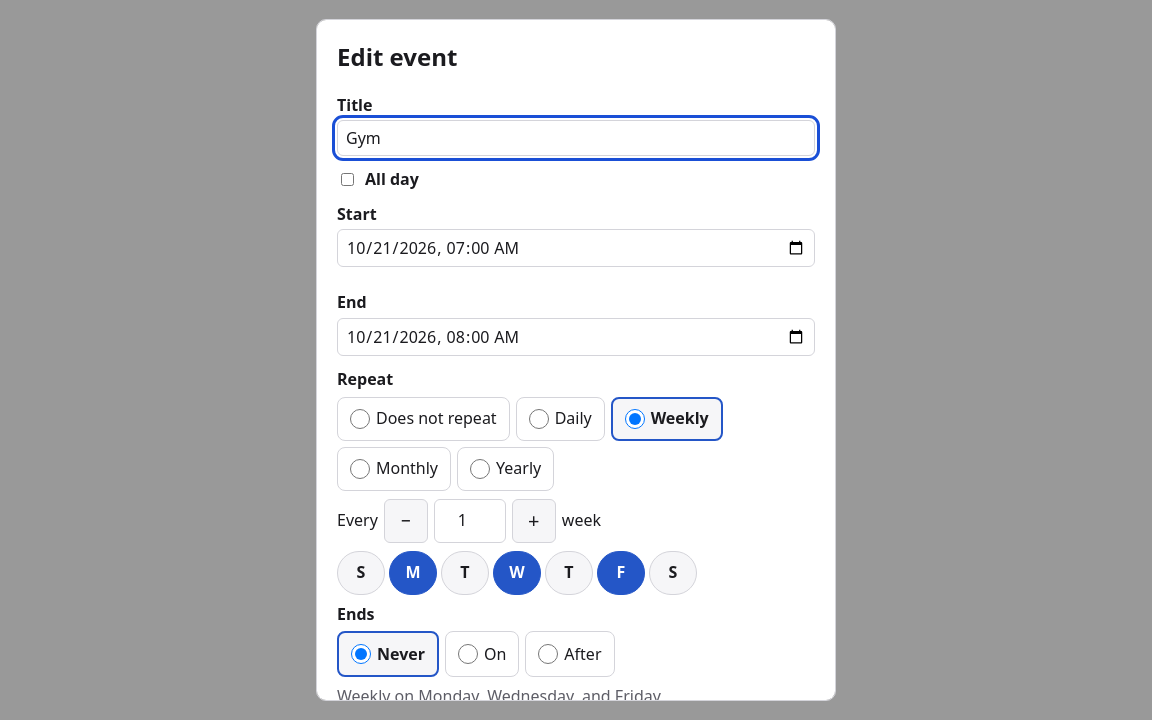
Test: EventFormDialog (series edits, US3) › shows a scope error from the server on the form
Replace the text in the field labelled "Title" with "Swim". click: coordinates (576, 138)
box: top-left (337, 120), bottom-right (815, 156)
(page scrolled)
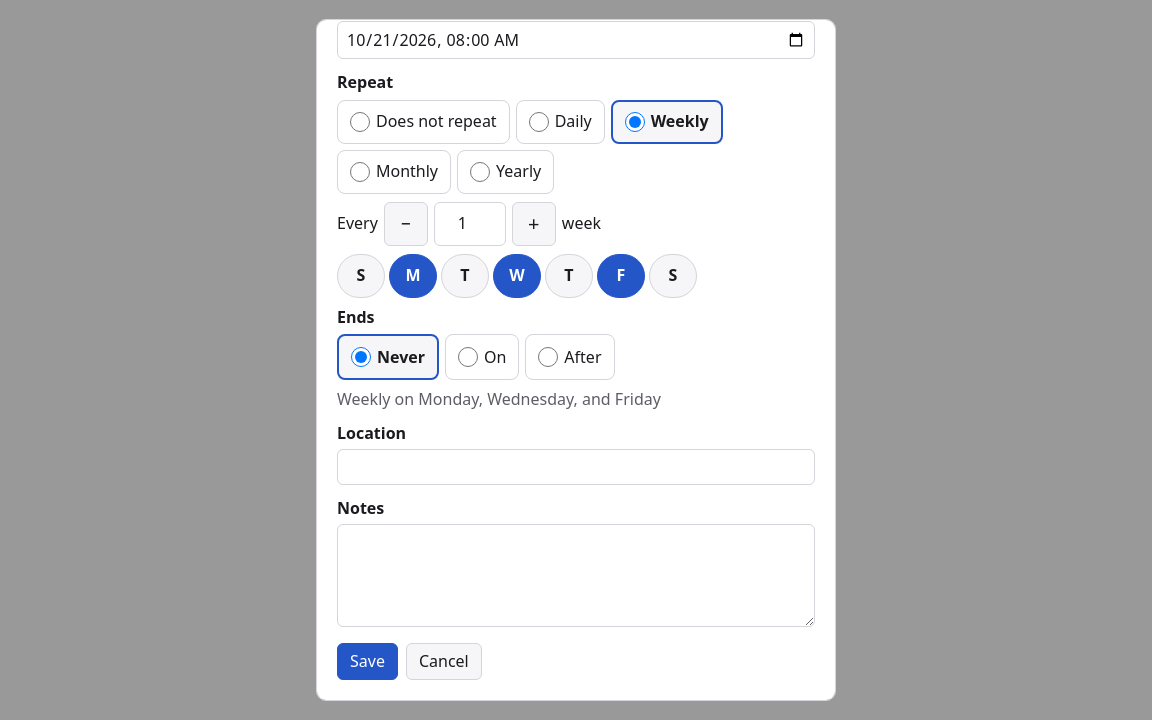
Click the button "Save". click: coordinates (367, 661)
box: top-left (337, 643), bottom-right (398, 680)
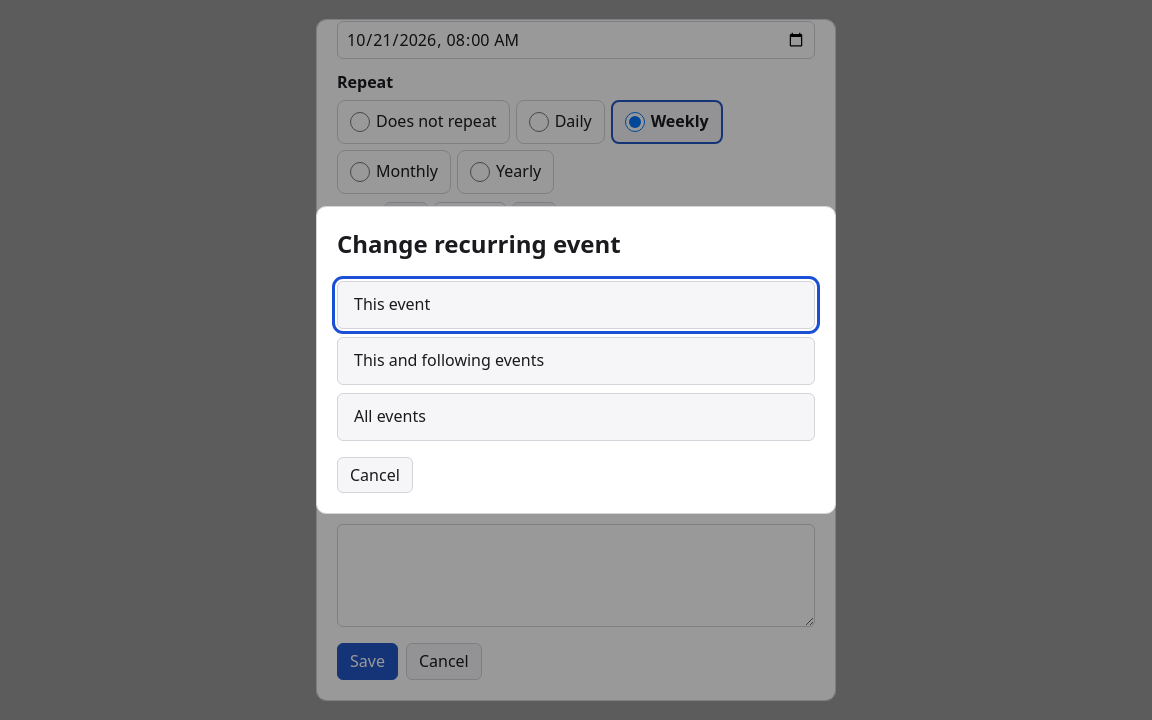
Click the button "All events". click: coordinates (390, 416)
box: top-left (337, 392), bottom-right (815, 440)
(page scrolled)
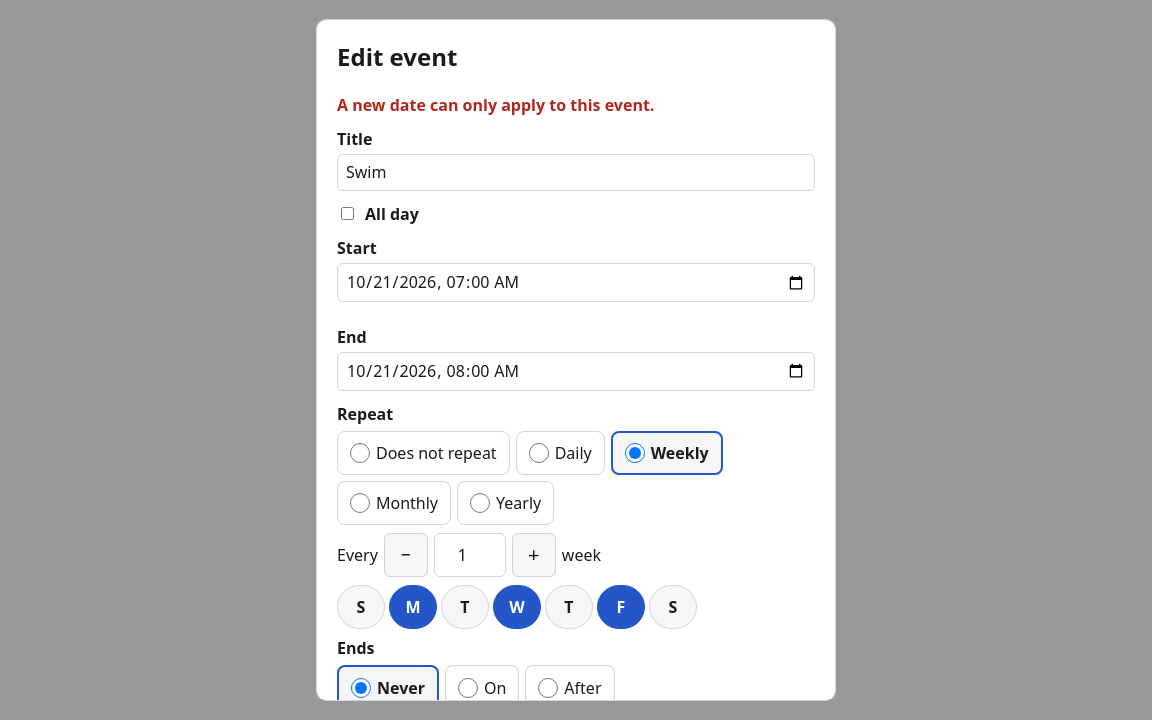
Check: the text "A new date can only apply to this event." is shown, box top-left (337, 94), bottom-right (654, 116)
